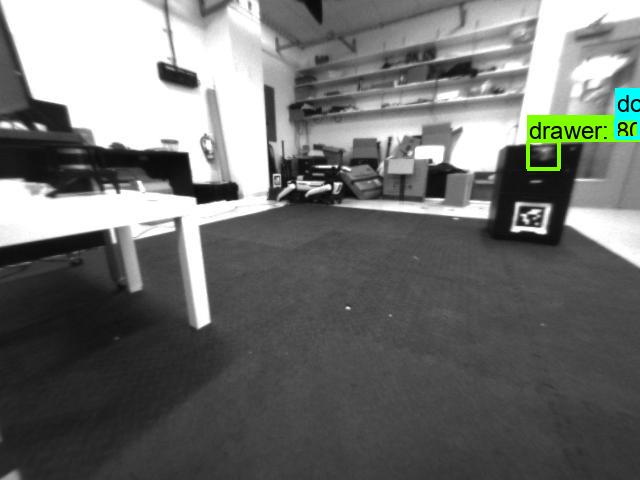door_handle: (614, 123, 639, 134)
drawer: (530, 143, 560, 172)
